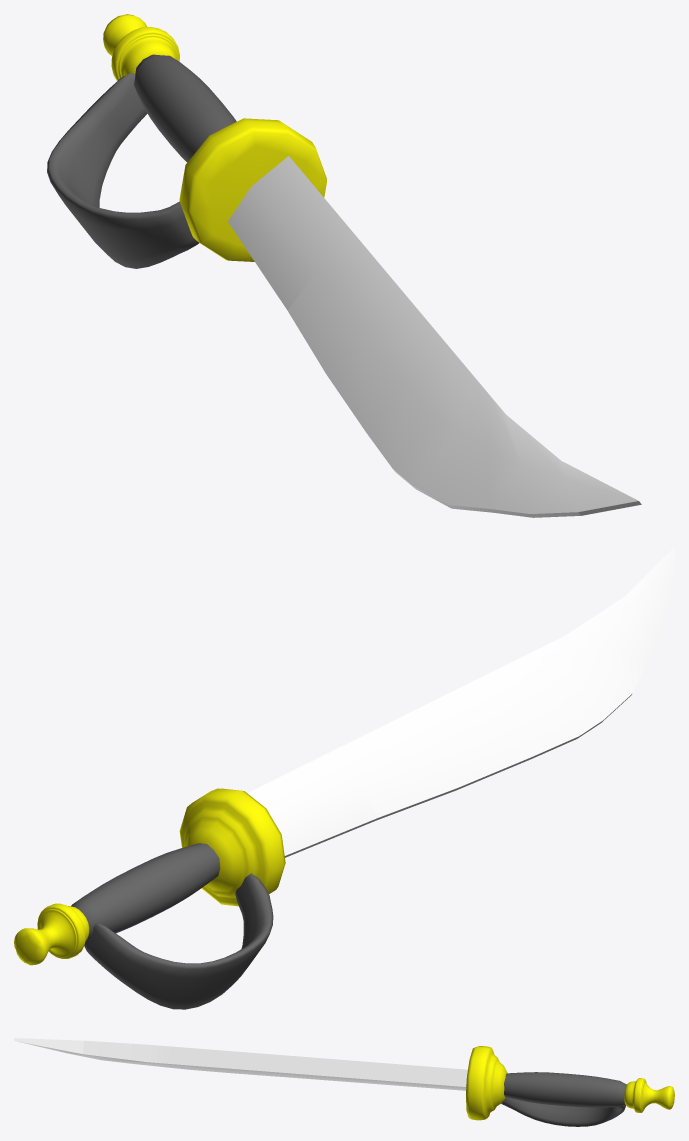
The model's file is Saber.fbx.
3 views of the same model, one above another, from view 1: azimuth 30°, elevation 25°; view 2: azimuth 150°, elevation 25°; view 3: azimuth 270°, elevation 25° (orthographic). The views are drawn at different scales.
Parts seen in each view (by area): view 1: pCube2, pCube1, pCylinder3, pCylinder2, pCylinder4; view 2: pCube2, pCube1, pCylinder3, pCylinder2, pCylinder4; view 3: pCube2, pCylinder2, pCylinder3, pCube1, pCylinder4.
Boxes of the visible parts, x1=… form: pCube2: x1=228, y1=156, x2=641, y2=517; pCube1: x1=47, y1=73, x2=198, y2=268; pCylinder3: x1=179, y1=118, x2=326, y2=261; pCylinder2: x1=134, y1=54, x2=236, y2=162; pCylinder4: x1=103, y1=14, x2=179, y2=81; pCube2: x1=247, y1=547, x2=674, y2=857; pCube1: x1=84, y1=873, x2=273, y2=1009; pCylinder3: x1=179, y1=788, x2=285, y2=906; pCylinder2: x1=71, y1=843, x2=220, y2=939; pCylinder4: x1=14, y1=903, x2=89, y2=965; pCube2: x1=14, y1=1038, x2=467, y2=1090; pCylinder2: x1=504, y1=1072, x2=626, y2=1107; pCylinder3: x1=466, y1=1046, x2=507, y2=1120; pCube1: x1=501, y1=1097, x2=625, y2=1126; pCylinder4: x1=624, y1=1078, x2=674, y2=1112.
Size of the model in its own units: 1.05 by 0.7886 by 5.2.
